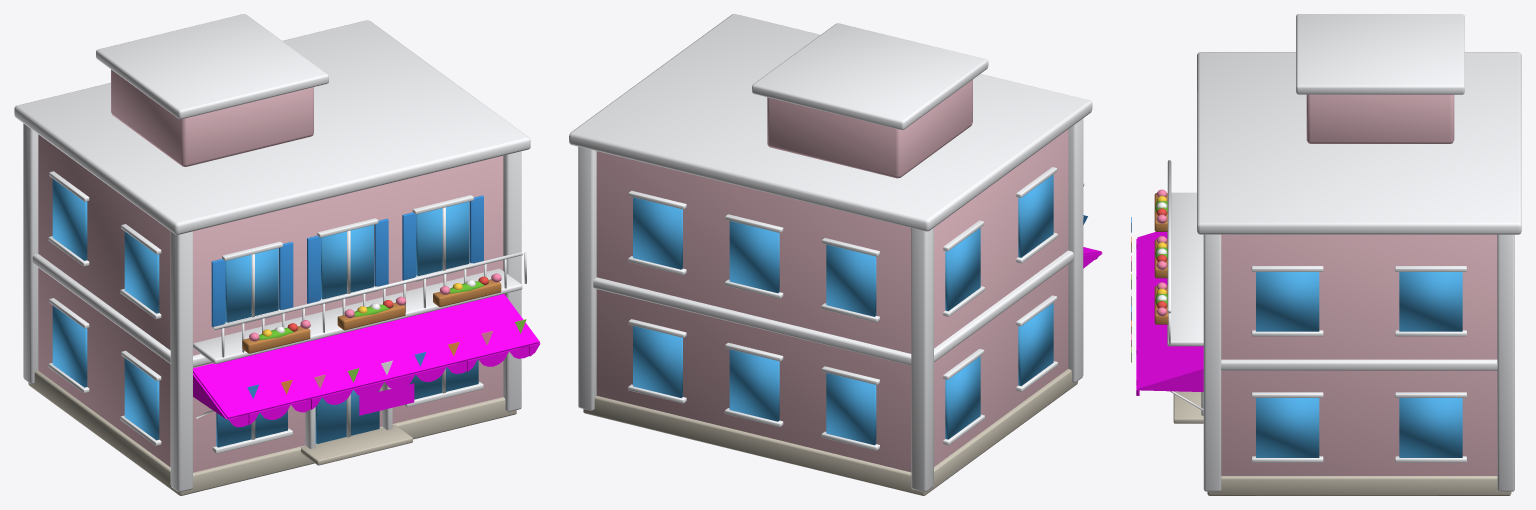
The model's file is shop_pink.glb.
3 renders of one model, left to right at view 1: azimuth 30°, elevation 25°; view 2: azimuth 150°, elevation 25°; view 3: azimuth 270°, elevation 25°, orthographic.
Visible parts, largest first — view 1: shop_pink; view 2: shop_pink; view 3: shop_pink.
Part boxes in pixels (left/top/right/bottom): shop_pink: left=14, top=14, right=540, bottom=495; shop_pink: left=569, top=14, right=1102, bottom=495; shop_pink: left=1131, top=14, right=1521, bottom=495.
Bounding box in the file's own units: 9.7 × 8.93 × 9.26.
